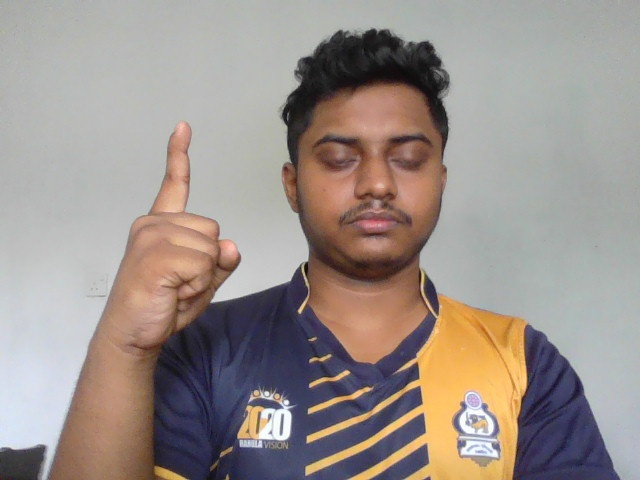Me: (106, 120, 245, 350)
